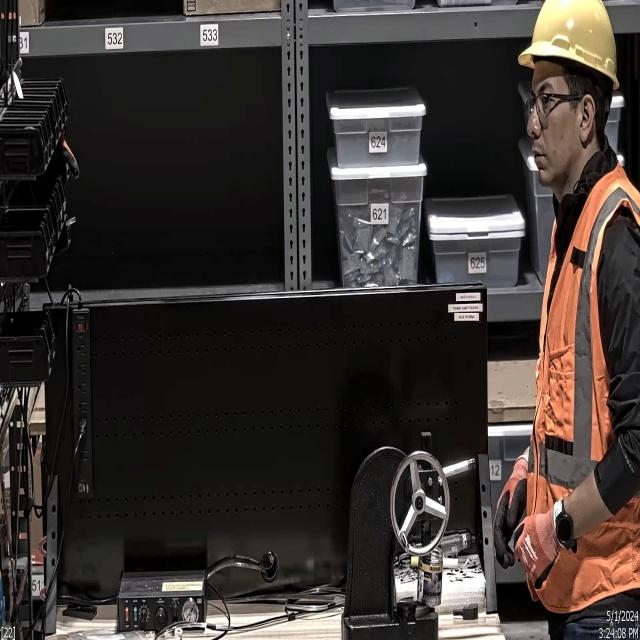construction-gloves: (484, 449, 537, 571), (512, 502, 562, 590)
